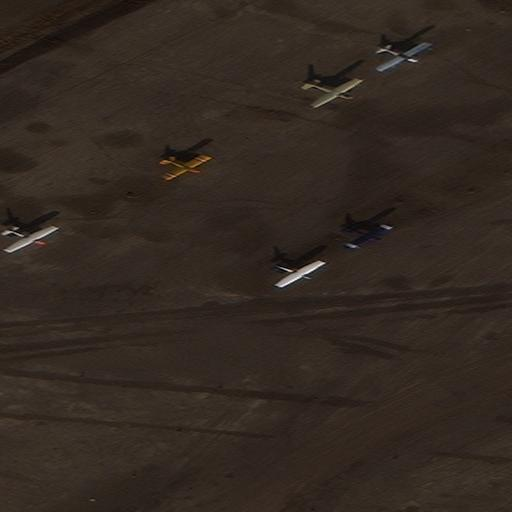Small Civil Transport: (306, 79, 364, 107), (379, 44, 432, 72), (7, 227, 58, 252), (275, 263, 325, 287), (161, 158, 210, 180), (343, 225, 392, 247)
